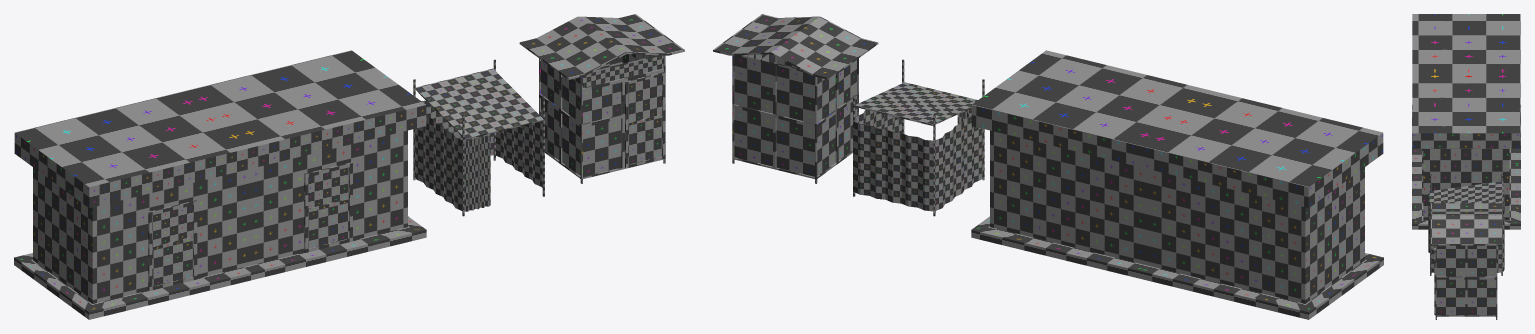
Rendered from PGR_Changing Room.fbx.
3 renders of one model, left to right at view 1: azimuth 30°, elevation 25°; view 2: azimuth 150°, elevation 25°; view 3: azimuth 270°, elevation 25°, orthographic. The views are drawn at different scales.
Visible parts, largest first — view 1: Door 02, Cube, Plane, Plane.001, rooms, rooms.001, Door 01.001, Plane.004, Plane.003, Plane.005, Circle, Plane.002; view 2: Door 02, Cube, Plane, Plane.002, Plane.004, Plane.001, Circle, Plane.003; view 3: Door 02, Cube, Plane, Plane.001, Circle, Plane.003, Plane.002, Door 01.001, Plane.005, rooms.001.
Boxes of the visible parts, bbox=[...] form: Door 02: bbox=[14, 50, 426, 319]; Cube: bbox=[539, 54, 665, 183]; Plane: bbox=[519, 14, 684, 79]; Plane.001: bbox=[415, 68, 543, 139]; rooms: bbox=[148, 200, 197, 290]; rooms.001: bbox=[304, 162, 352, 252]; Door 01.001: bbox=[625, 72, 665, 167]; Plane.004: bbox=[414, 116, 462, 210]; Plane.003: bbox=[496, 116, 542, 187]; Plane.005: bbox=[464, 134, 490, 211]; Circle: bbox=[413, 59, 544, 216]; Plane.002: bbox=[421, 100, 493, 155]; Door 02: bbox=[971, 50, 1383, 319]; Cube: bbox=[732, 54, 858, 183]; Plane: bbox=[713, 14, 878, 79]; Plane.002: bbox=[853, 121, 933, 211]; Plane.004: bbox=[935, 116, 983, 210]; Plane.001: bbox=[854, 82, 977, 125]; Circle: bbox=[853, 59, 984, 216]; Plane.003: bbox=[855, 109, 901, 132]; Door 02: bbox=[1412, 14, 1520, 229]; Cube: bbox=[1435, 245, 1497, 319]; Plane: bbox=[1431, 203, 1501, 245]; Plane.001: bbox=[1429, 181, 1503, 219]; Circle: bbox=[1430, 174, 1502, 275]; Plane.003: bbox=[1431, 245, 1501, 272]; Plane.002: bbox=[1503, 193, 1504, 271]; Door 01.001: bbox=[1434, 245, 1435, 315]; Plane.005: bbox=[1428, 193, 1429, 252]; rooms.001: bbox=[1422, 148, 1423, 200].
Bounding box in the file's own units: 1648 × 343 × 352.
1 material, 1 textured.
